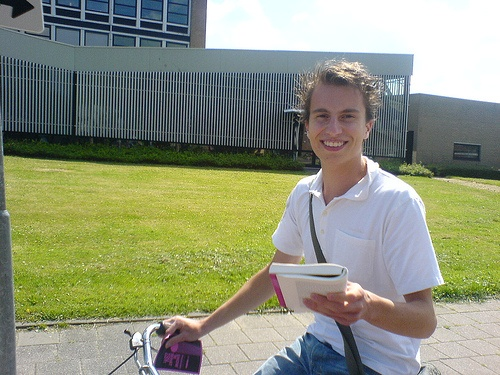head: (305, 65, 373, 166)
person: (152, 62, 457, 372)
